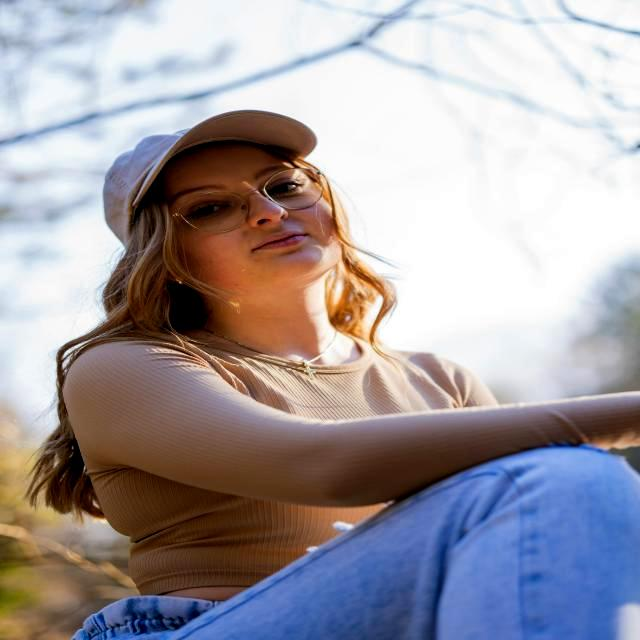no_hard_hat: (104, 111, 316, 246)
person: (36, 111, 640, 640)
